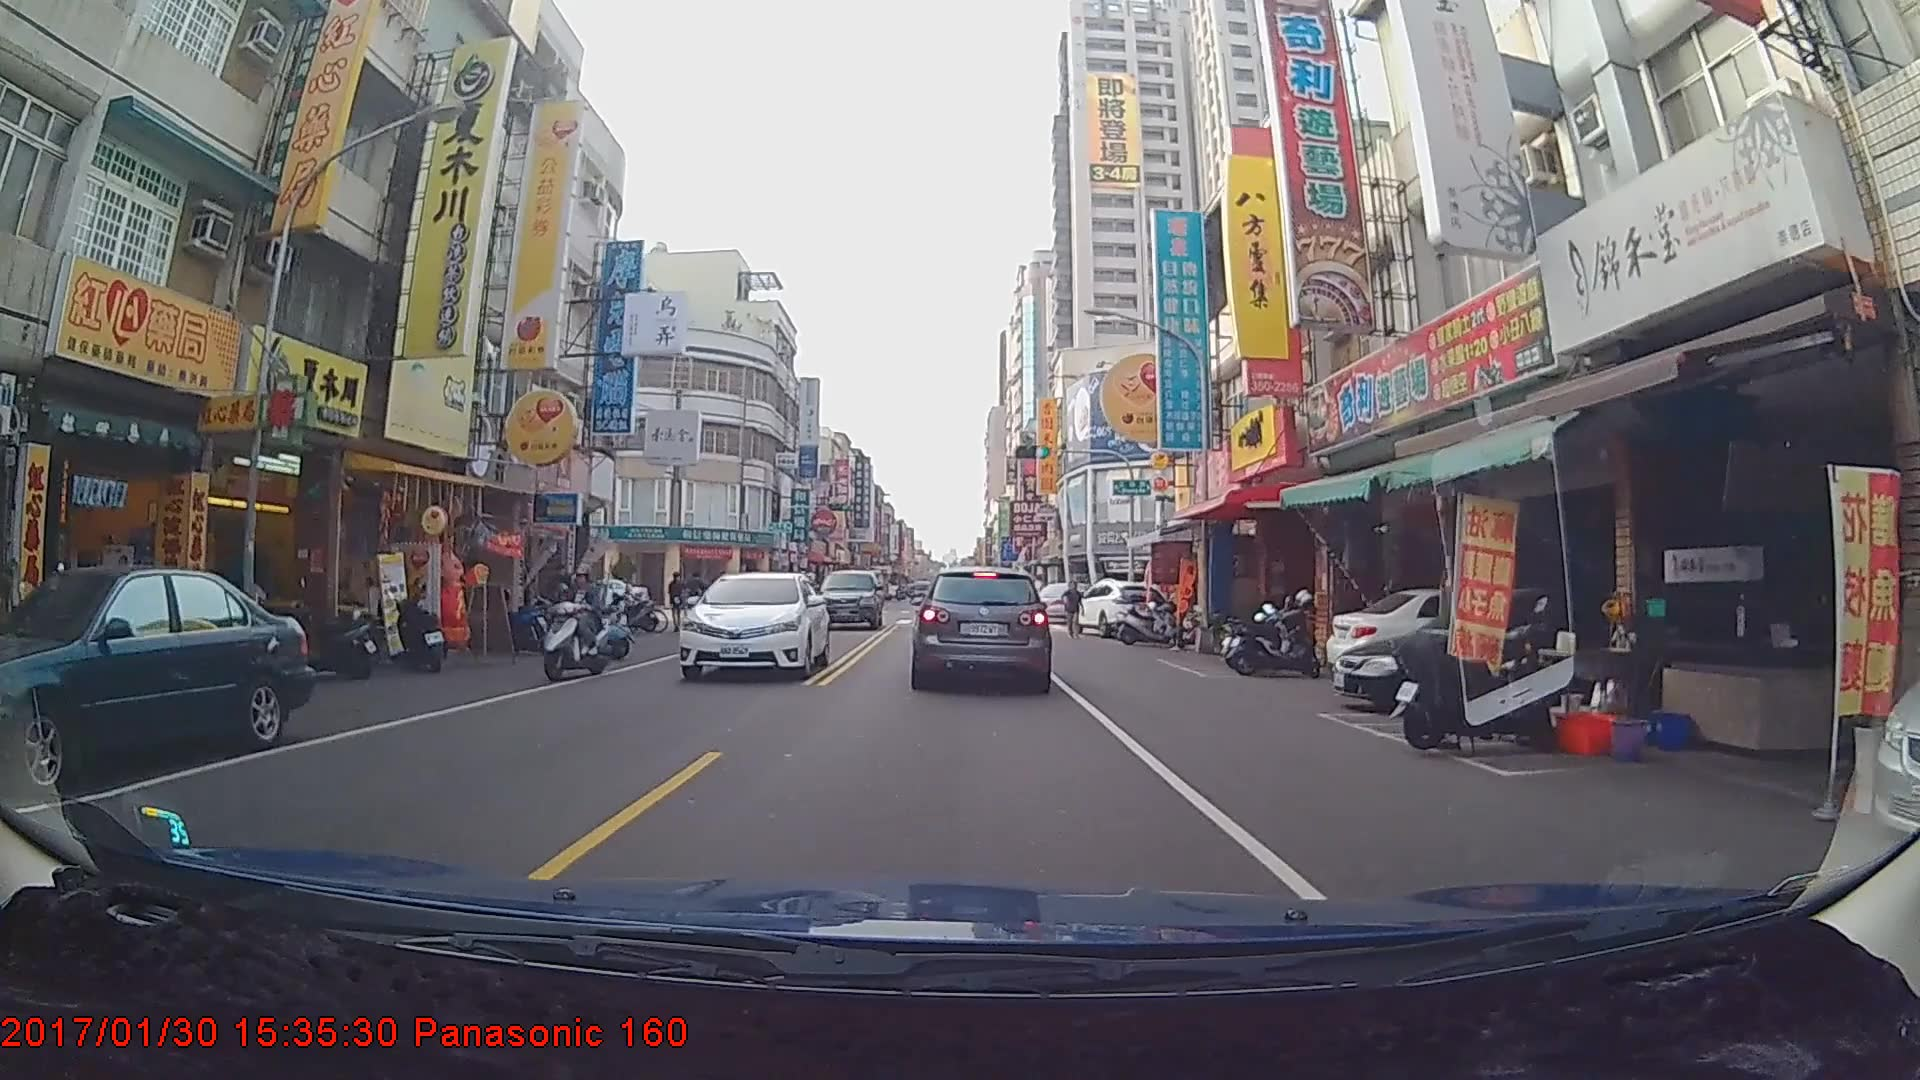pedestrian: (1064, 583, 1085, 643)
rider: (538, 563, 621, 688)
vehicle: (0, 566, 311, 779), (910, 565, 1053, 689), (676, 570, 831, 681), (1071, 579, 1172, 639), (812, 569, 884, 632)
